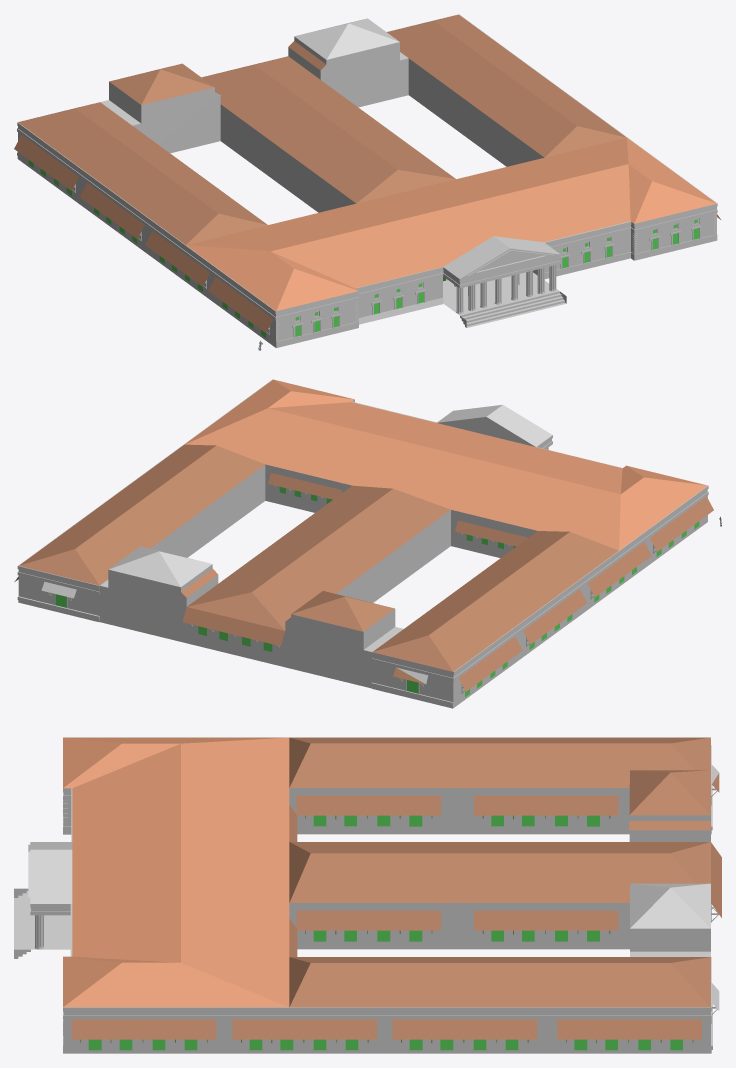
File: museum_seni_rupa_dan_keramik.glb
The picture shows the model from 3 angles, top to bottom: view 1: azimuth 30°, elevation 25°; view 2: azimuth 150°, elevation 25°; view 3: azimuth 270°, elevation 25°; orthographic projection. The views are drawn at different scales.
Parts seen in each view (by area): view 1: Mesh2_Roofing_Tile_Spanish_0, Mesh2_FrontColor_0, Mesh2_Roofing_Scalloped_Ornate_0, Mesh2_Blinds_Cloth_Horizontal_0, Mesh2_Color_M00_0; view 2: Mesh2_Roofing_Tile_Spanish_0, Mesh2_FrontColor_0, Mesh2_Roofing_Scalloped_Ornate_0, Mesh2_Blinds_Cloth_Horizontal_0; view 3: Mesh2_Roofing_Tile_Spanish_0, Mesh2_Roofing_Scalloped_Ornate_0, Mesh2_FrontColor_0, Mesh2_Blinds_Cloth_Horizontal_0.
Boxes of the visible parts, x1,y1,x2,y2 form: Mesh2_Roofing_Tile_Spanish_0: [14, 14, 720, 332]; Mesh2_FrontColor_0: [17, 14, 717, 347]; Mesh2_Roofing_Scalloped_Ornate_0: [186, 137, 716, 311]; Mesh2_Blinds_Cloth_Horizontal_0: [28, 160, 699, 337]; Mesh2_Color_M00_0: [358, 298, 443, 324]; Mesh2_Roofing_Tile_Spanish_0: [14, 444, 713, 691]; Mesh2_FrontColor_0: [17, 379, 708, 708]; Mesh2_Roofing_Scalloped_Ornate_0: [184, 379, 707, 550]; Mesh2_Blinds_Cloth_Horizontal_0: [55, 487, 699, 696]; Mesh2_Roofing_Tile_Spanish_0: [71, 737, 721, 1039]; Mesh2_Roofing_Scalloped_Ornate_0: [63, 737, 289, 1007]; Mesh2_FrontColor_0: [14, 737, 719, 1053]; Mesh2_Blinds_Cloth_Horizontal_0: [88, 815, 682, 1050].
Size of the model in its own units: 0.7914 by 0.127 by 0.8315.
